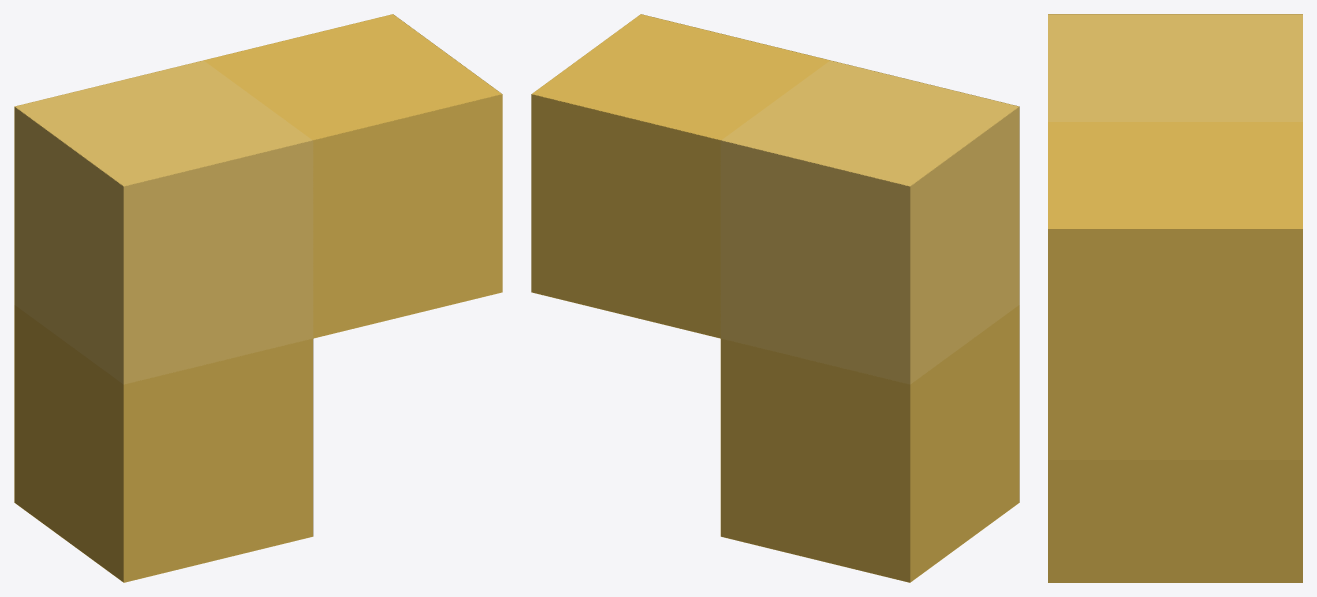
File: MirageCloneArm.obj
The picture shows the model from 3 angles, left to right: view 1: azimuth 30°, elevation 25°; view 2: azimuth 150°, elevation 25°; view 3: azimuth 270°, elevation 25°; orthographic projection. The views are drawn at different scales.
Visible parts, largest first — view 1: MirageCloneArm; view 2: MirageCloneArm; view 3: MirageCloneArm.
Part boxes in pixels (box(x1,y1,x2,y2)): MirageCloneArm: box(14, 14, 502, 582); MirageCloneArm: box(531, 14, 1019, 582); MirageCloneArm: box(1048, 14, 1302, 582).
Bounding box in the file's own units: 2 × 2 × 1.
